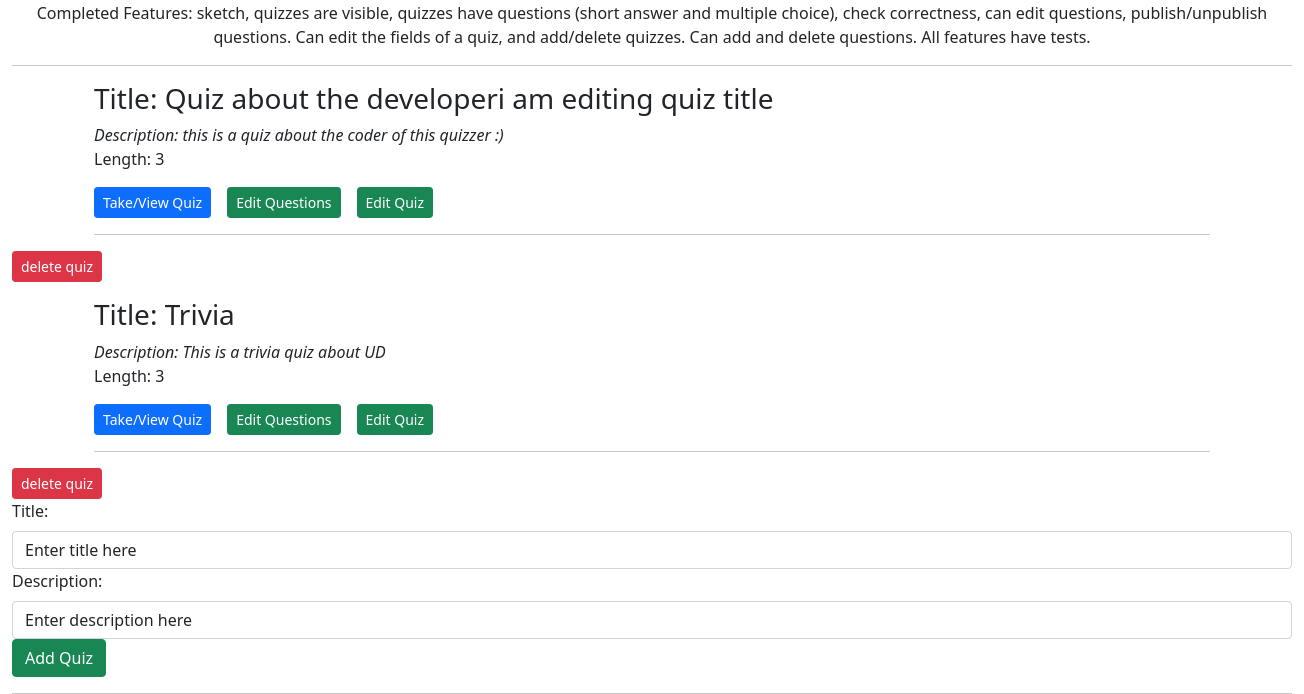
Test: Quizzer Tests › Edit Quiz description
(page scrolled)
Step 1. Click the 1st button "Edit Quiz" → click(395, 203), box [356,187,433,218]
(page scrolled)
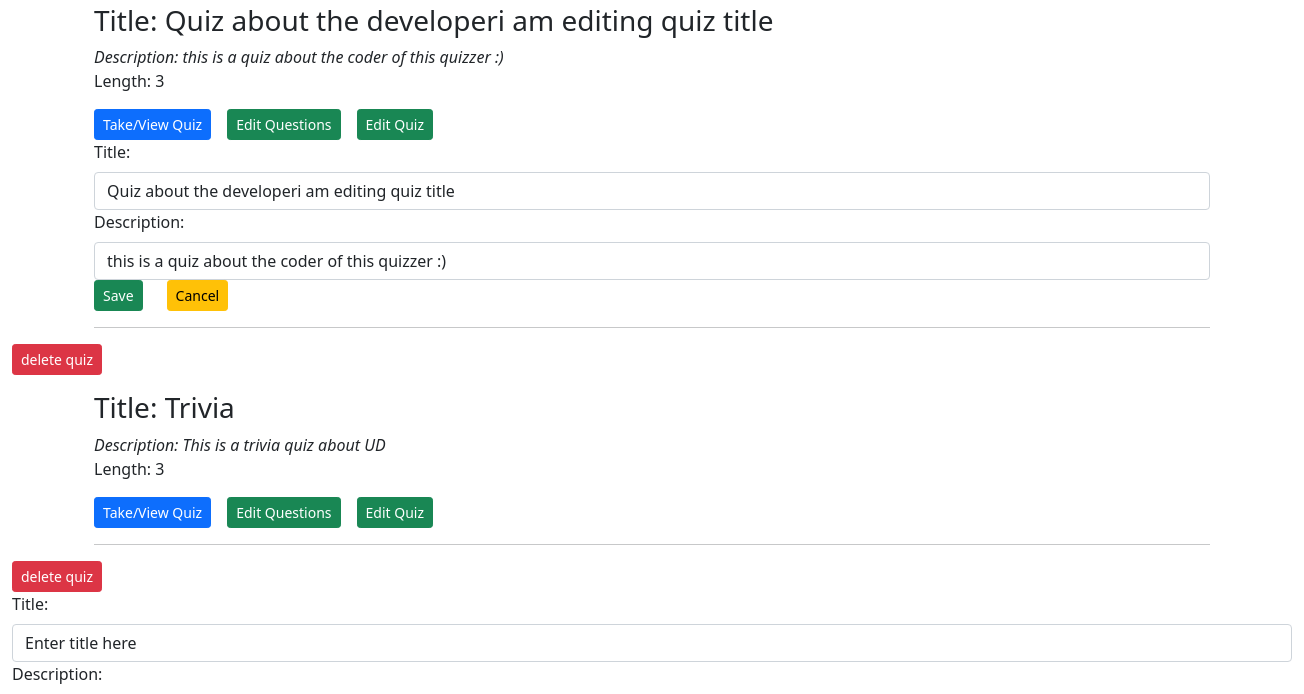
Step 2. Type "hello" into the 1st field labelled "Description:" → (652, 261), box [94,242,1210,280]
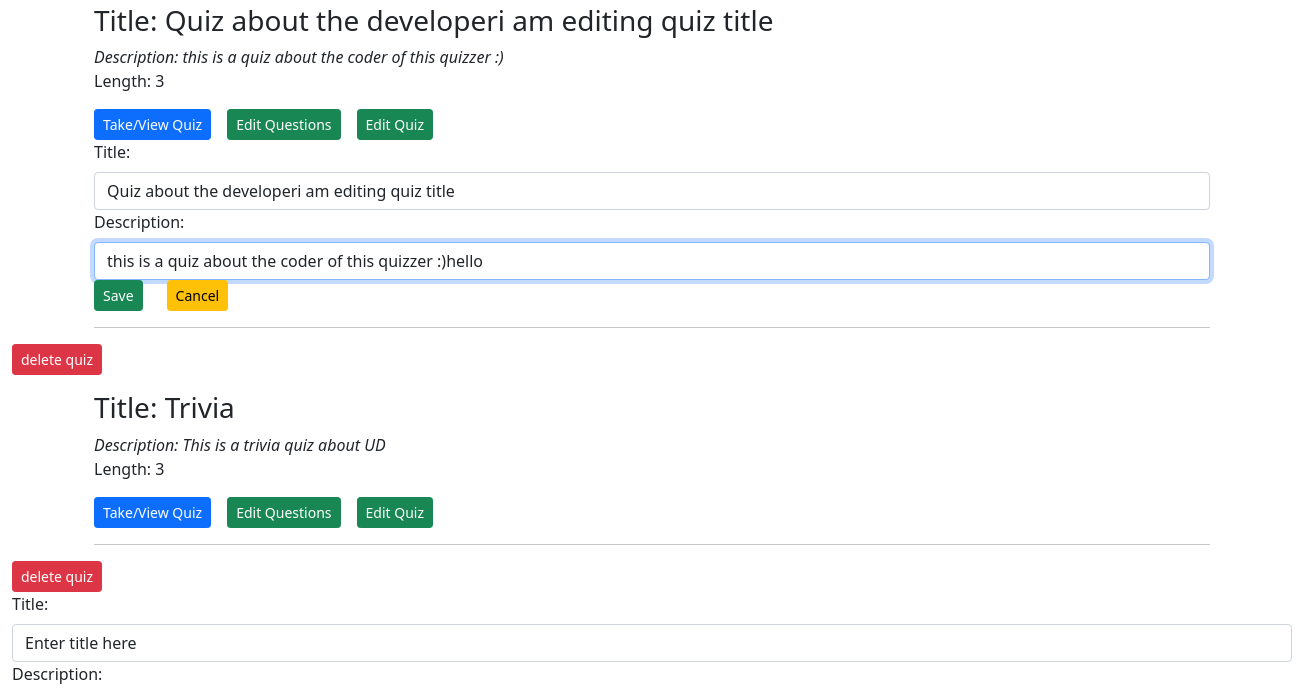
Step 3. Click the button with test id "savequiz" → click(118, 296), box [94,280,143,311]
(page scrolled)
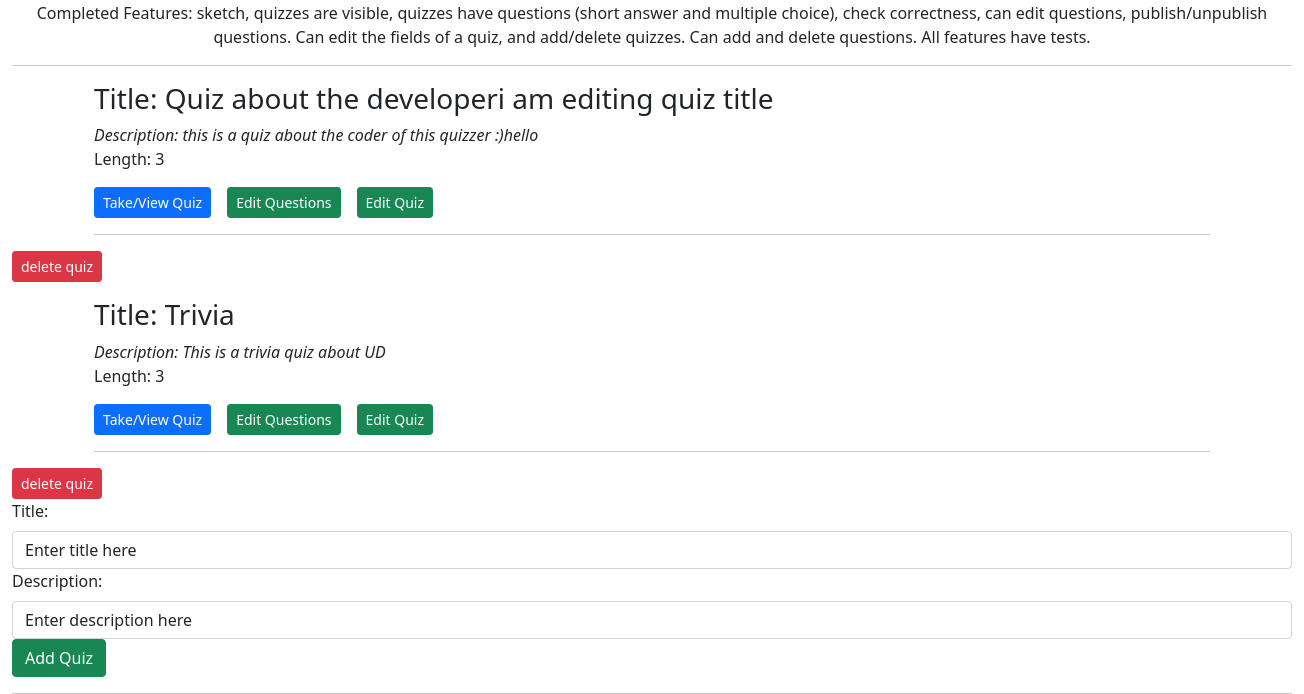
Check: the text "hello" is shown, box [182,124,538,146]
